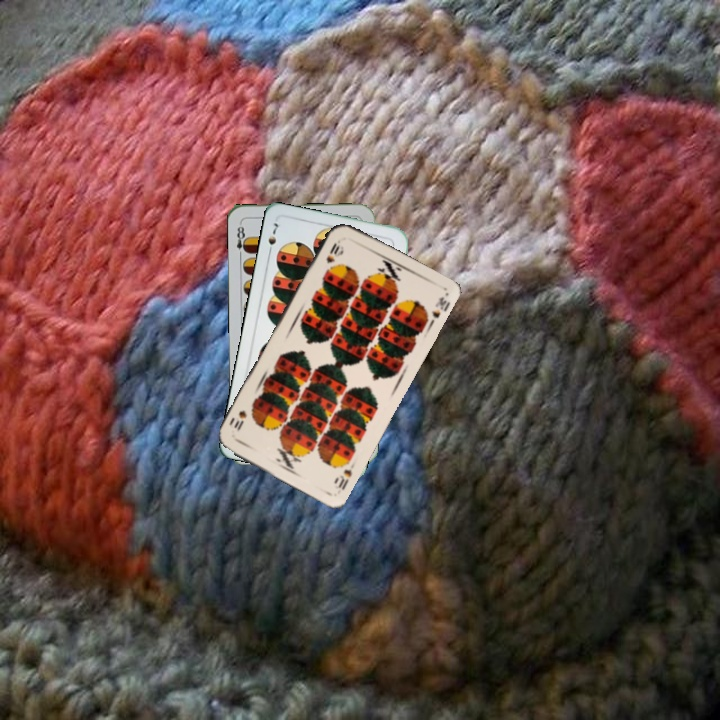E8: (233, 219, 250, 260)
S10: (330, 457, 358, 493), (322, 236, 343, 266)
S7: (264, 219, 283, 257)
